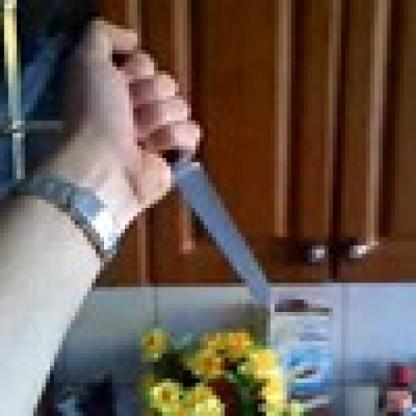Knife: (112, 46, 275, 304)
